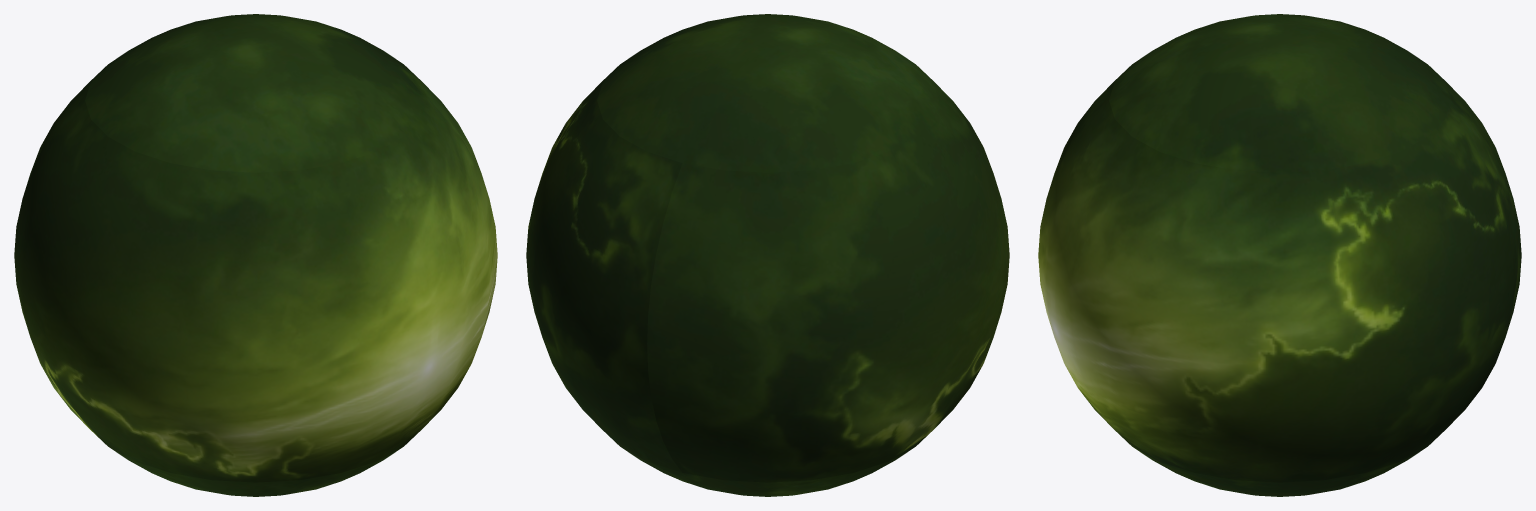
The model's file is Skybox.fbx.
3 renders of one model, left to right at view 1: azimuth 30°, elevation 25°; view 2: azimuth 150°, elevation 25°; view 3: azimuth 270°, elevation 25°, orthographic.
Visible parts, largest first — view 1: SkyboxBackdrop4; view 2: SkyboxBackdrop4; view 3: SkyboxBackdrop4.
Part boxes in pixels (left/top/right/bottom): SkyboxBackdrop4: left=14, top=14, right=497, bottom=496; SkyboxBackdrop4: left=526, top=14, right=1009, bottom=496; SkyboxBackdrop4: left=1038, top=14, right=1521, bottom=496.
Bounding box in the file's own units: 4917 × 4917 × 4917.
Materials: 1 (1 with a texture image).
